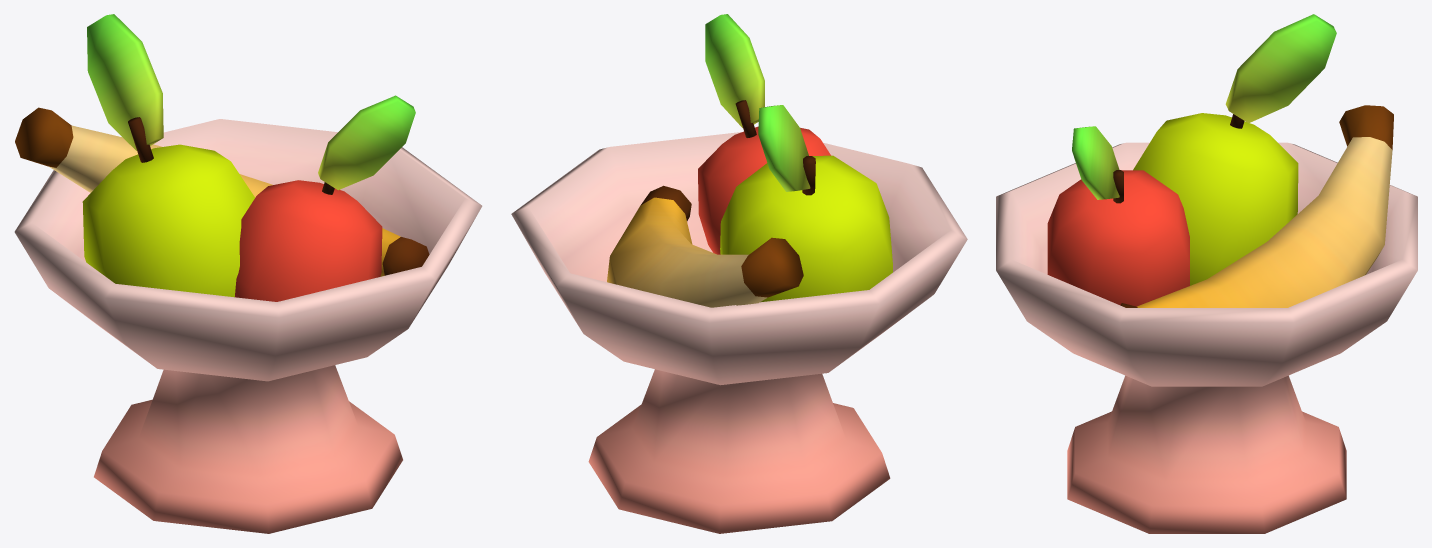
File: SM_Fruit_Bowl.fbx
3 views of the same model, side by side, from view 1: azimuth 30°, elevation 25°; view 2: azimuth 150°, elevation 25°; view 3: azimuth 270°, elevation 25° (orthographic). The views are drawn at different scales.
Visible parts, largest first — view 1: SM_Fruit_Bowl; view 2: SM_Fruit_Bowl; view 3: SM_Fruit_Bowl.
Boxes of the visible parts, x1,y1,x2,y2 form: SM_Fruit_Bowl: [14, 14, 482, 533]; SM_Fruit_Bowl: [511, 14, 967, 533]; SM_Fruit_Bowl: [996, 14, 1417, 533].
Bounding box in the file's own units: 40.96 × 44.97 × 40.96.
1 material, 1 textured.
